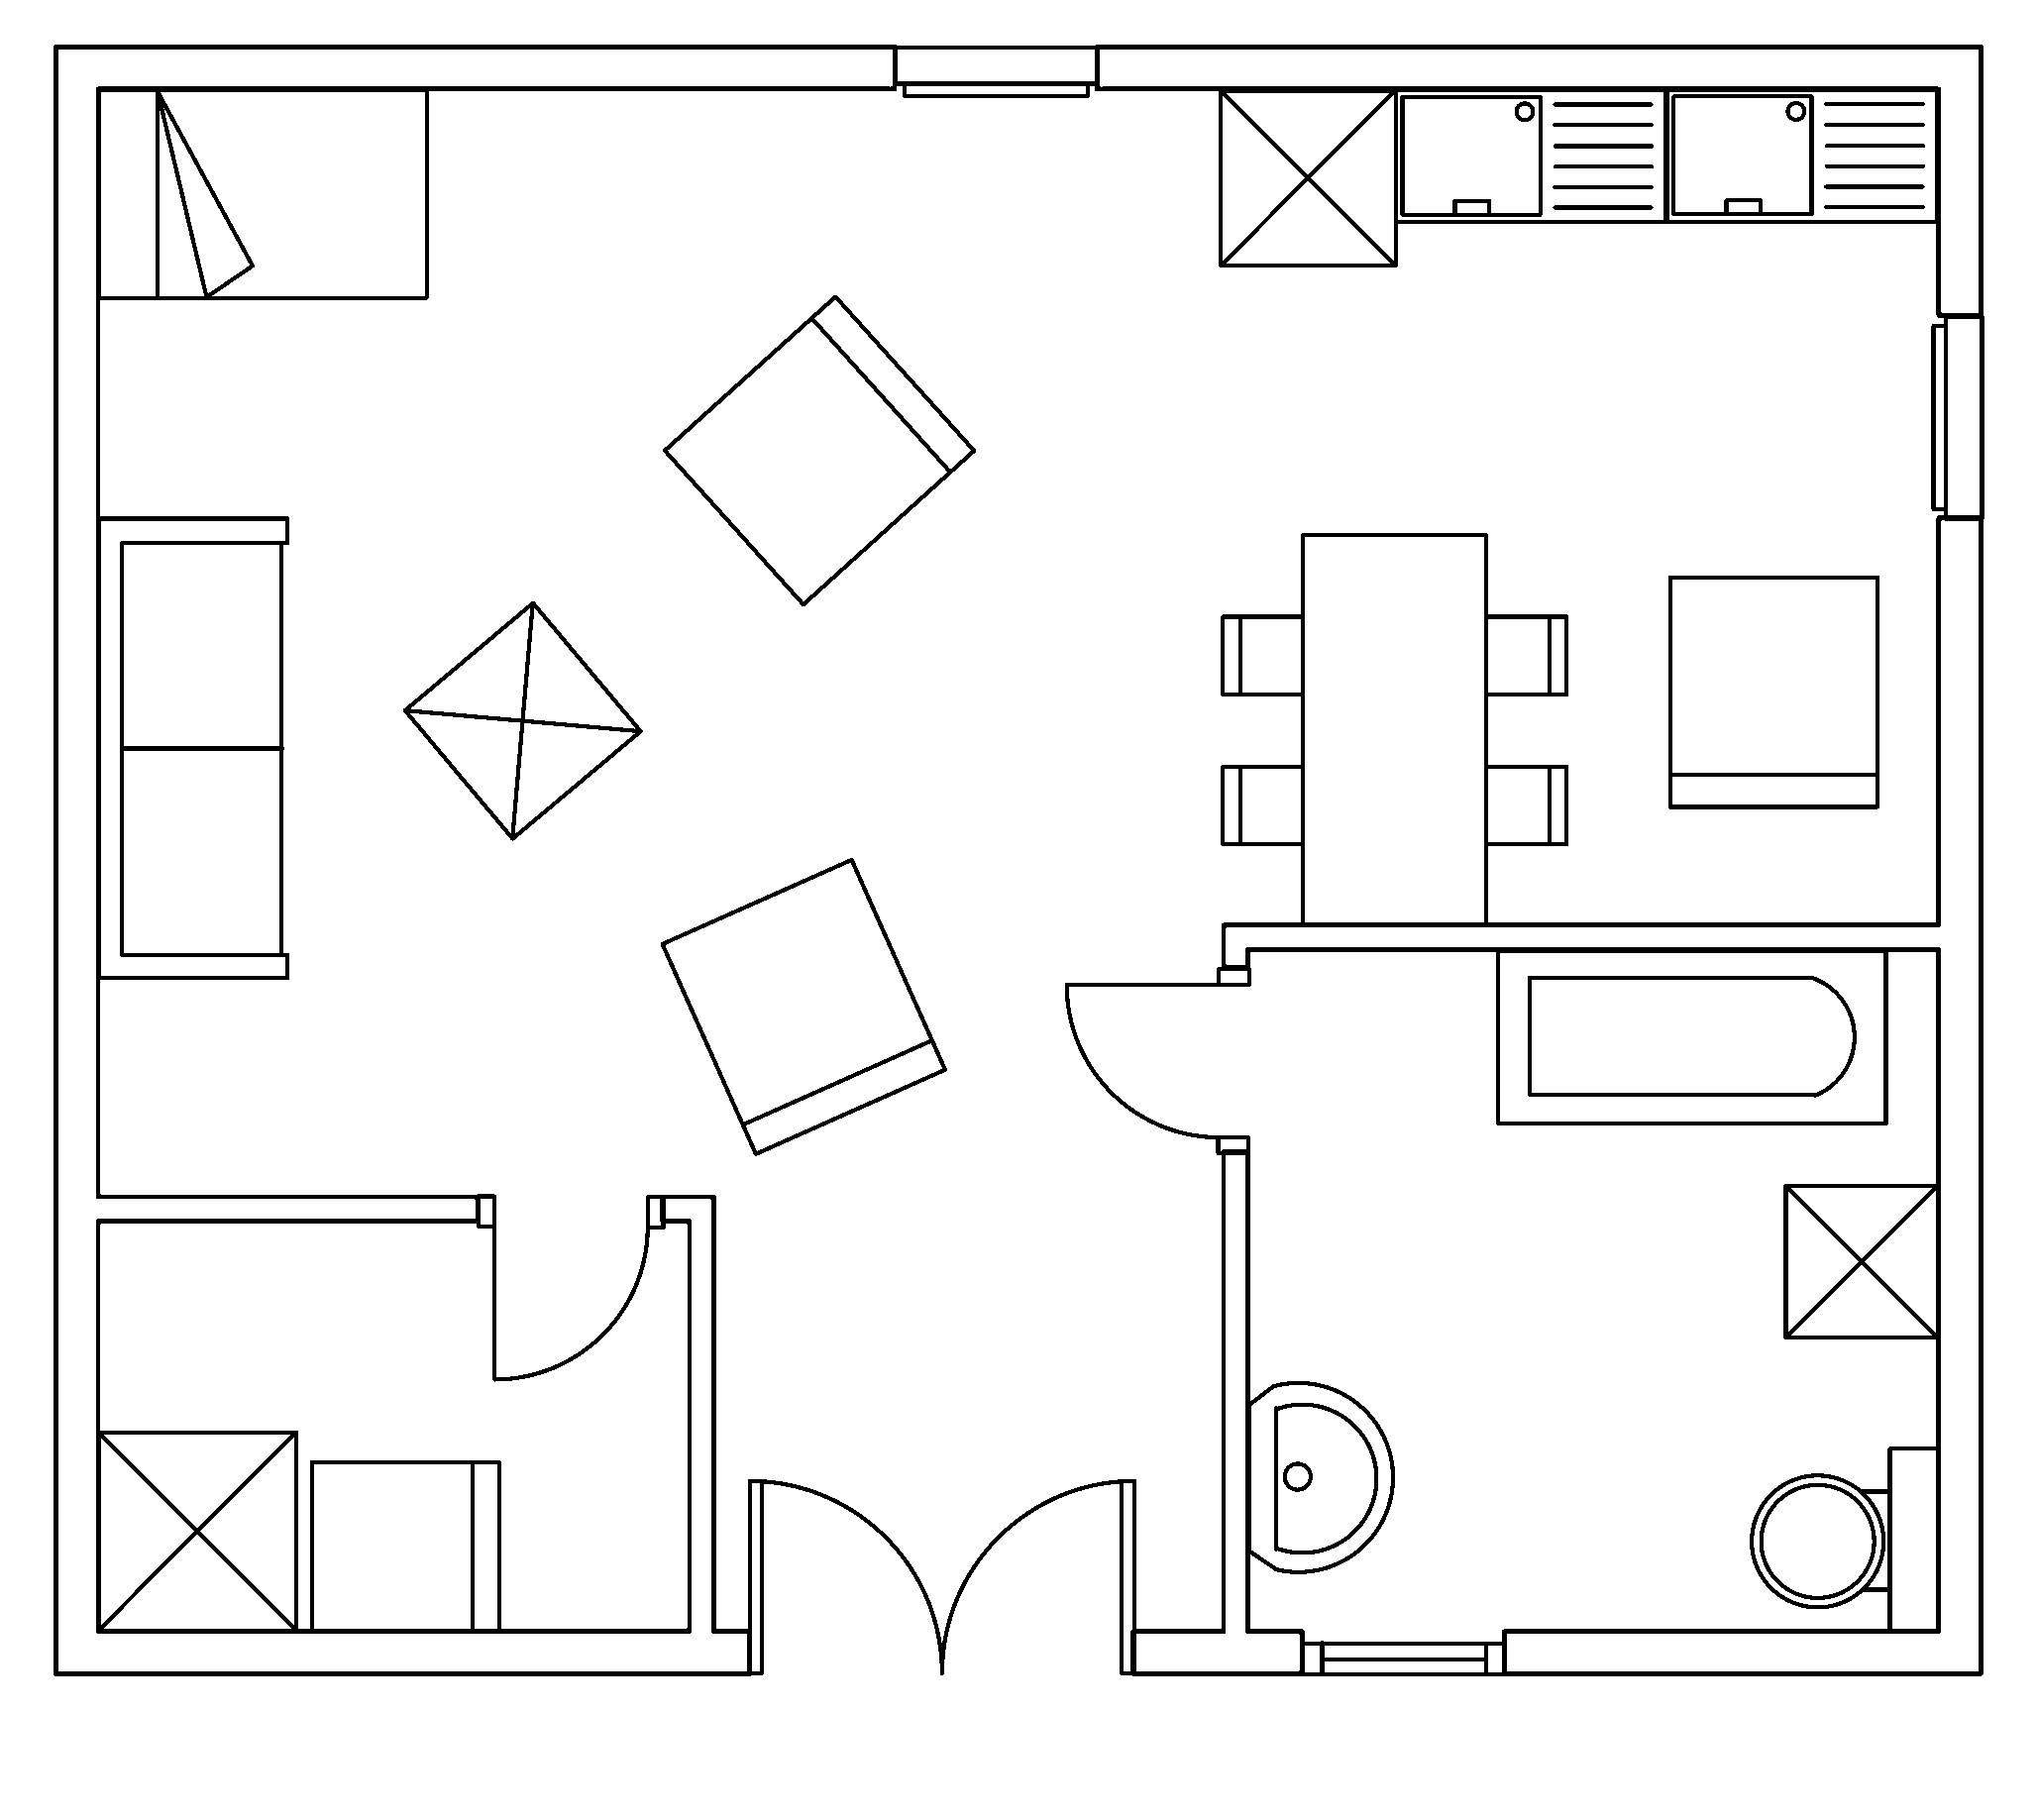bed: (95, 86, 428, 300)
coffee_table: (400, 599, 643, 841), (95, 1428, 299, 1632), (1217, 86, 1398, 267), (1781, 1182, 1940, 1339)
dining_table: (1219, 531, 1568, 926)
large_sink: (1749, 1444, 1940, 1632)
large_sofa: (95, 515, 290, 980)
sink: (1663, 86, 1940, 223), (1393, 86, 1668, 223)
small_sink: (1245, 1381, 1394, 1572)
small_sofa: (660, 292, 976, 606), (659, 856, 947, 1156), (1666, 573, 1879, 810), (307, 1458, 500, 1632)
tub: (1494, 947, 1888, 1126)
